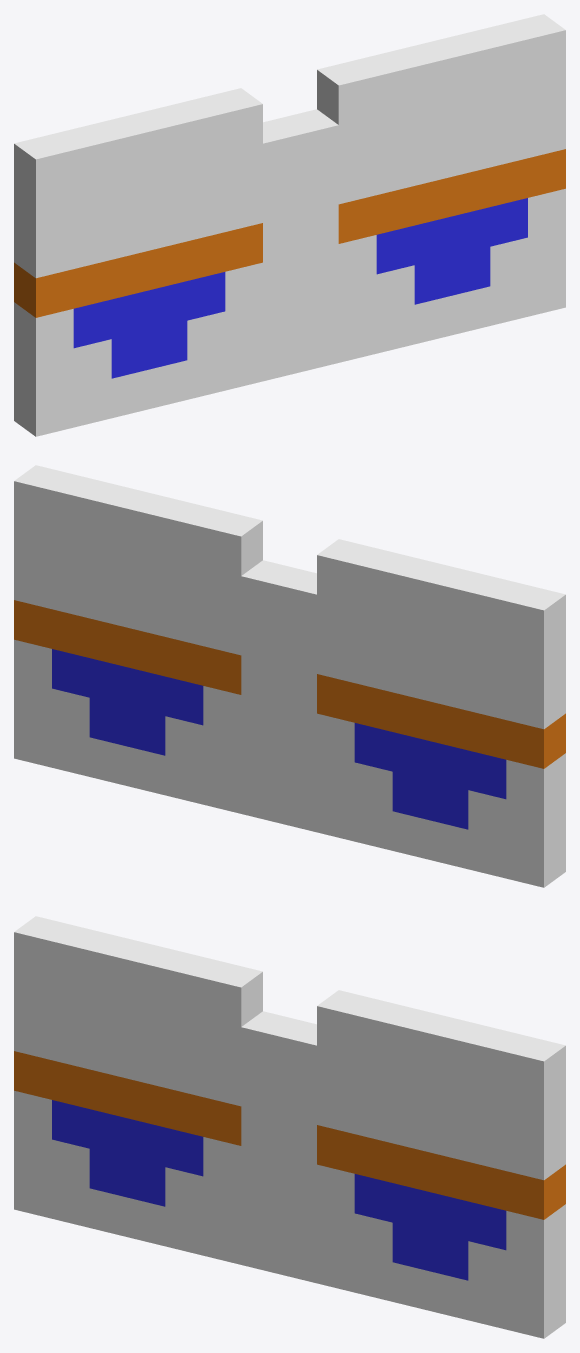
3 renders of one model, top to bottom at view 1: azimuth 30°, elevation 25°; view 2: azimuth 150°, elevation 25°; view 3: azimuth 330°, elevation 25°, orthographic.
Parts seen in each view (by area): view 1: eye-shapes055, eye-shapes011, eye-shapes012; view 2: eye-shapes055, eye-shapes011, eye-shapes012; view 3: eye-shapes055, eye-shapes011, eye-shapes012.
Boxes of the visible parts, <box> form: eye-shapes055: <box>14,14,565,436</box>; eye-shapes011: <box>14,149,565,317</box>; eye-shapes012: <box>73,198,527,378</box>; eye-shapes055: <box>14,465,565,887</box>; eye-shapes011: <box>14,600,565,768</box>; eye-shapes012: <box>52,649,506,829</box>; eye-shapes055: <box>14,916,565,1338</box>; eye-shapes011: <box>14,1051,565,1219</box>; eye-shapes012: <box>52,1100,506,1280</box>.
Size of the model in its own units: 140 by 70 by 10.
3 materials, 3 textured.
